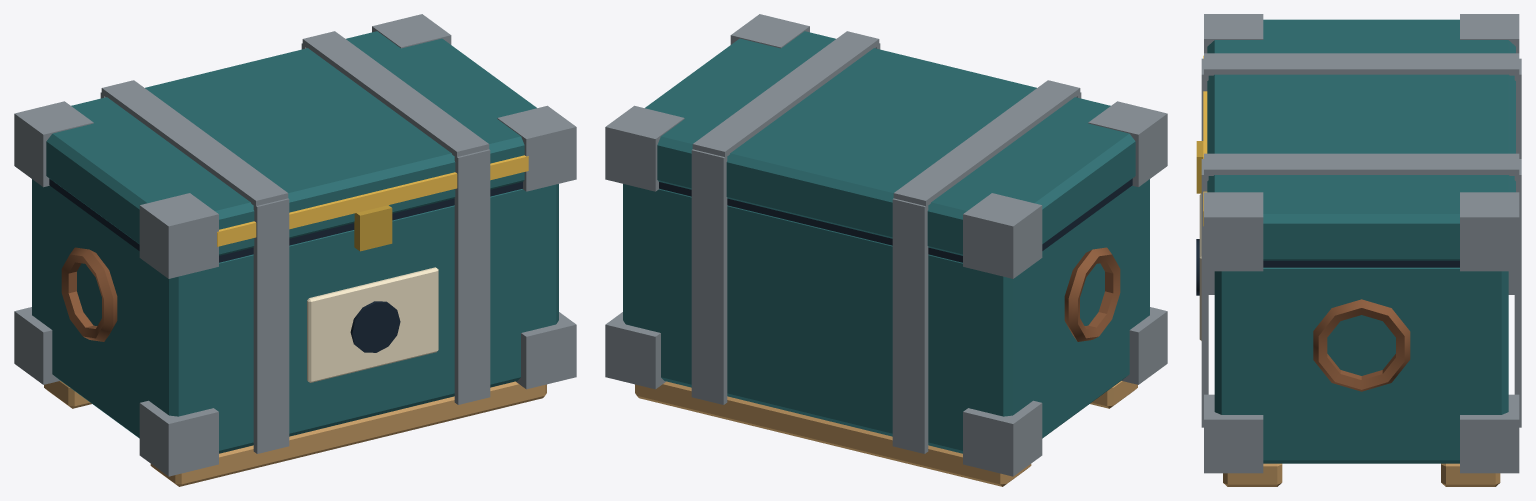
The model's file is Prop_SupplyCrate.fbx.
The picture shows the model from 3 angles, left to right: view 1: azimuth 30°, elevation 25°; view 2: azimuth 150°, elevation 25°; view 3: azimuth 270°, elevation 25°; orthographic projection. The views are drawn at different scales.
Parts seen in each view (by area): view 1: Crate; view 2: Crate; view 3: Crate.
Boxes of the visible parts, x1,y1,x2,y2 form: Crate: (14, 14, 576, 486); Crate: (605, 14, 1167, 486); Crate: (1196, 14, 1521, 486).
Size of the model in its own units: 4.23 by 2.65 by 2.74.
